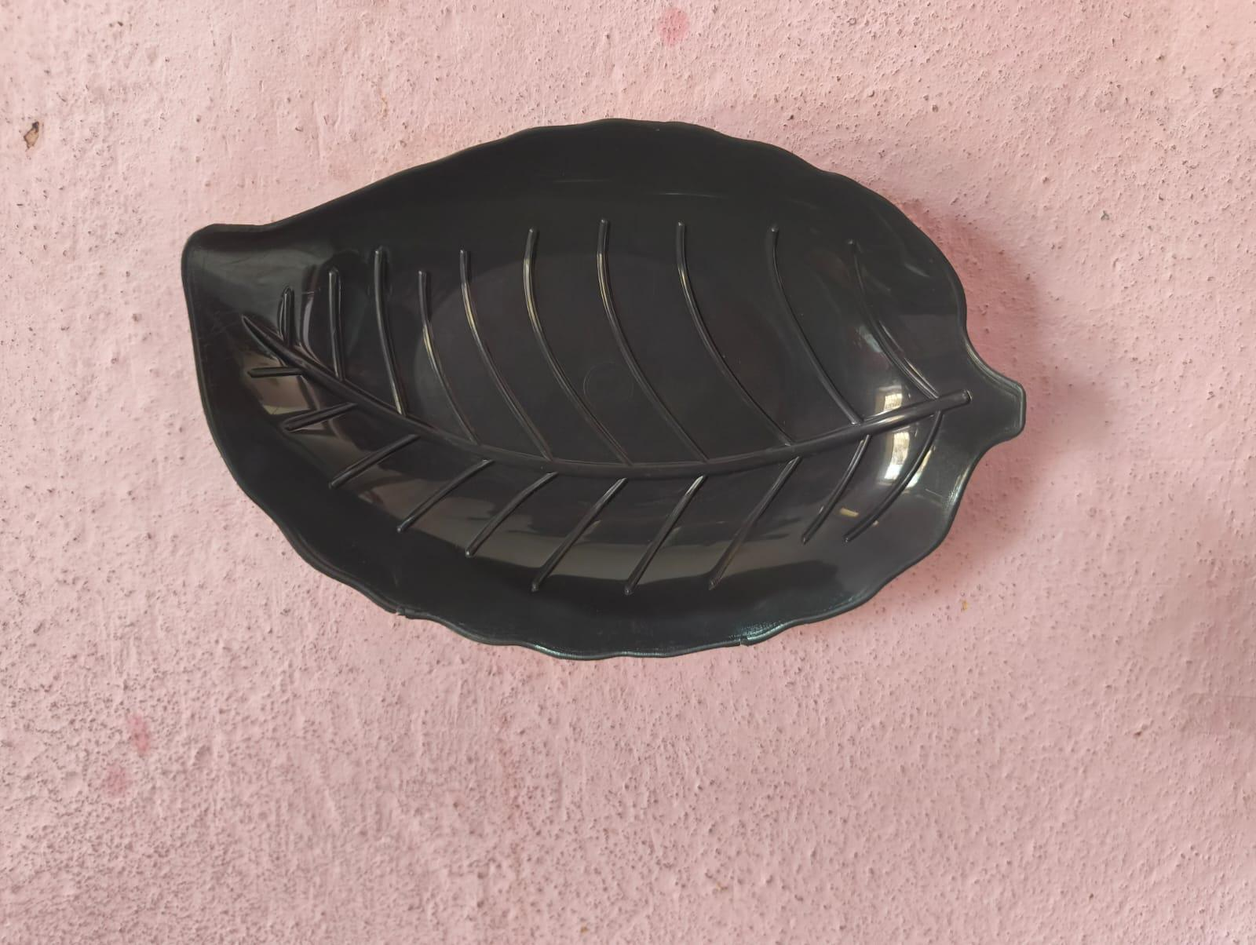plate: (185, 101, 1052, 668)
